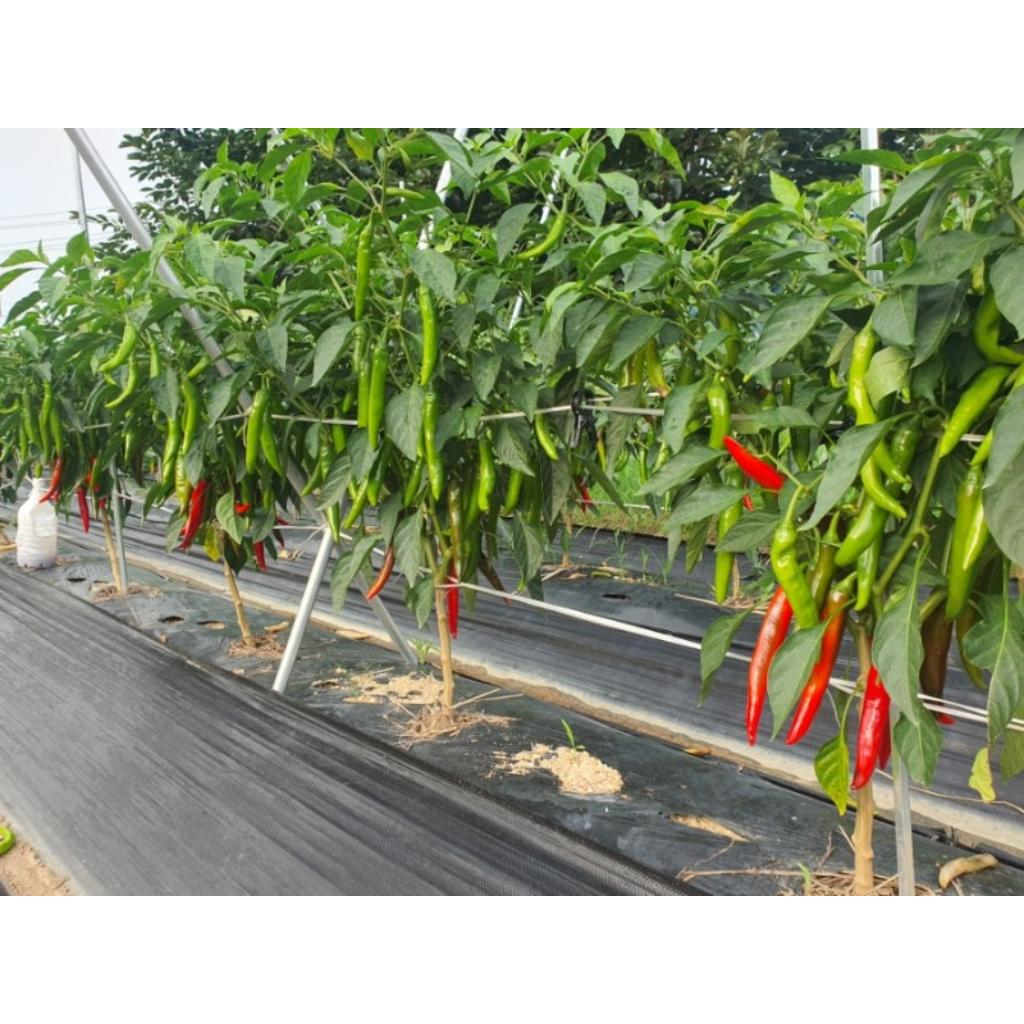chili: (786, 574, 855, 744), (746, 588, 792, 745), (850, 666, 890, 789), (722, 438, 784, 491), (178, 480, 208, 549), (366, 544, 396, 599), (446, 564, 460, 637)
